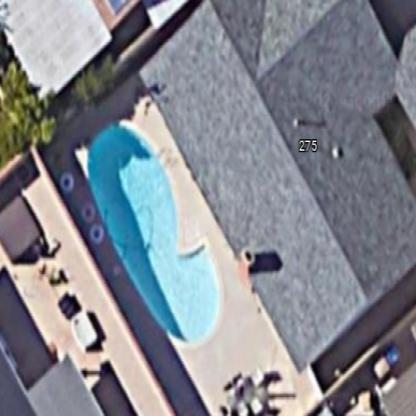pool: (81, 110, 224, 350)
